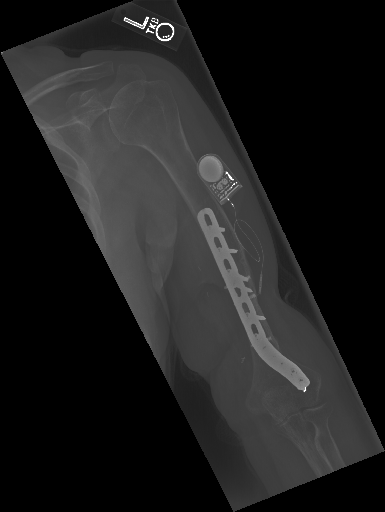implant: (194, 204, 313, 395), (190, 149, 245, 207)
